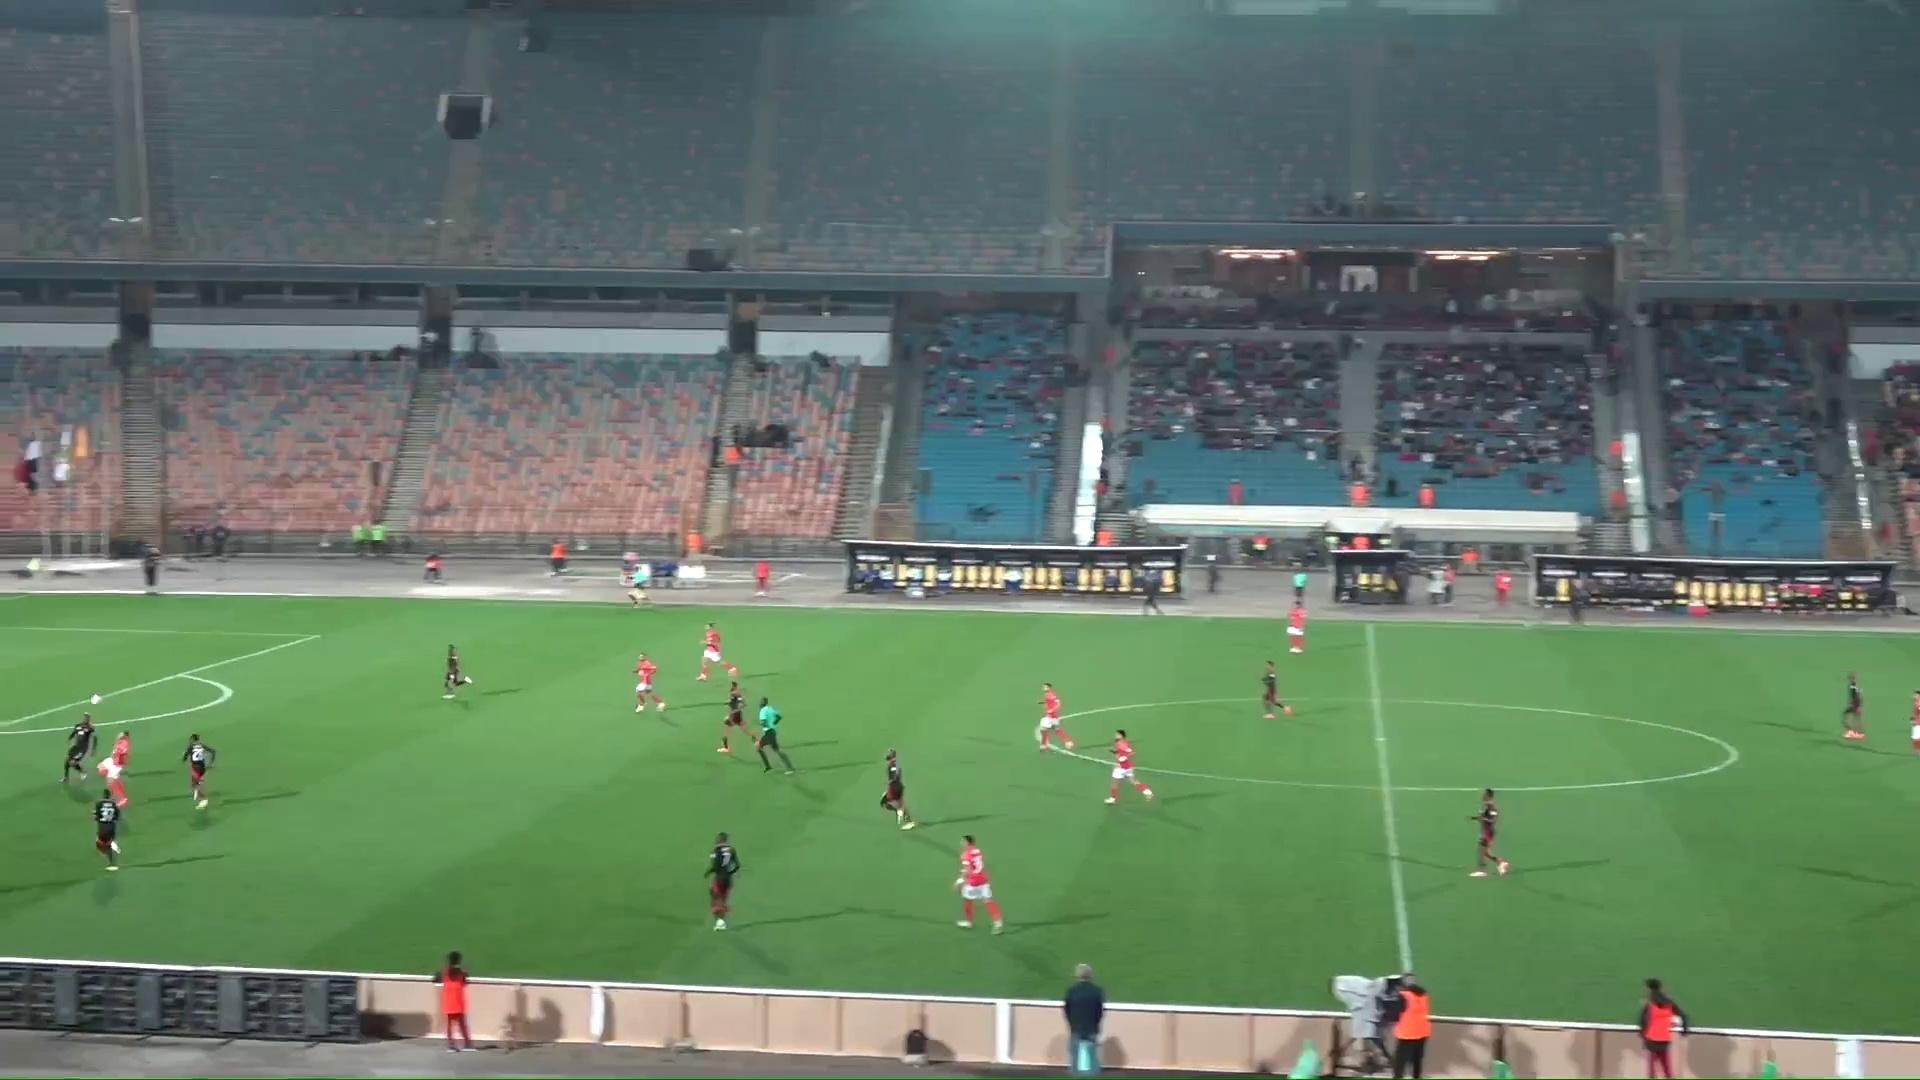Ball: (87, 694, 105, 708)
Refree: (754, 696, 794, 771), (621, 554, 651, 607)
Team1: (952, 835, 1002, 934), (1105, 729, 1153, 803), (1038, 683, 1075, 753), (98, 731, 131, 807), (696, 624, 738, 680), (1261, 661, 1294, 719), (633, 655, 666, 711), (1286, 601, 1308, 654), (1909, 688, 1919, 753)
Team2: (717, 678, 769, 769), (704, 832, 741, 930), (1469, 789, 1510, 876), (880, 749, 918, 829), (182, 735, 218, 808), (62, 712, 98, 783), (94, 791, 123, 870), (440, 645, 473, 699), (1840, 674, 1865, 740)
